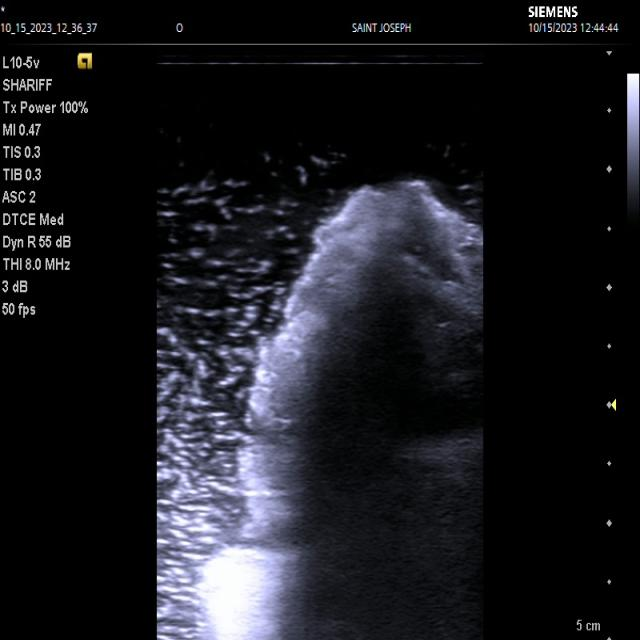tissue: (201, 181, 483, 640)
